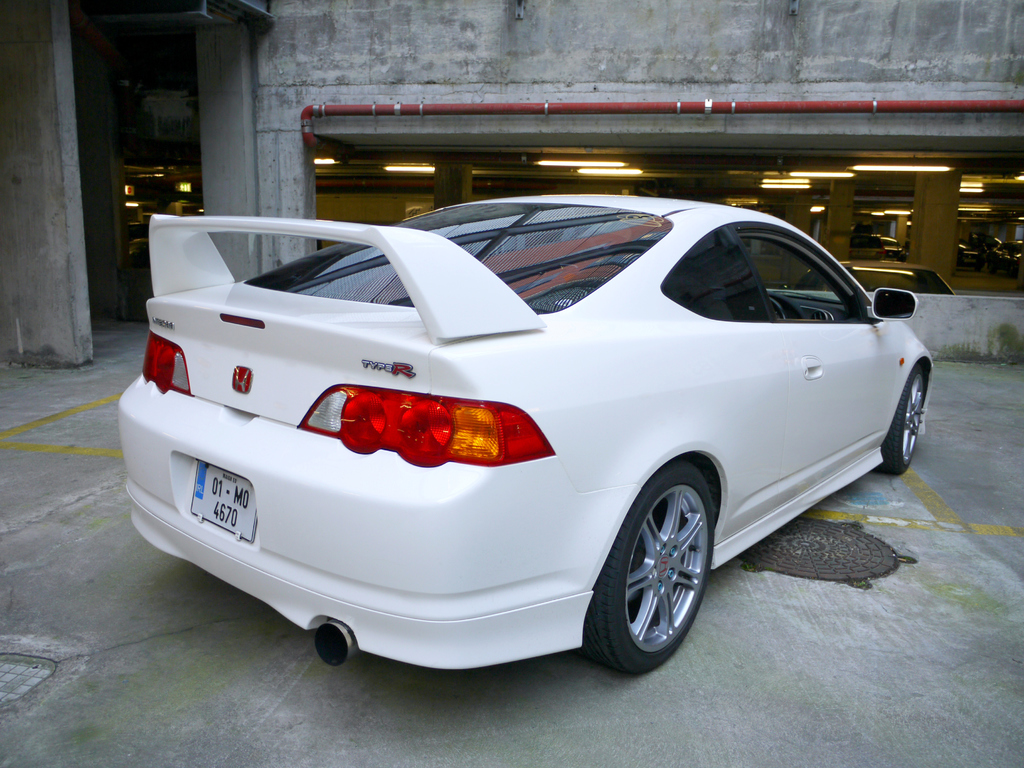cars: (112, 193, 934, 674), (796, 229, 1023, 294)
